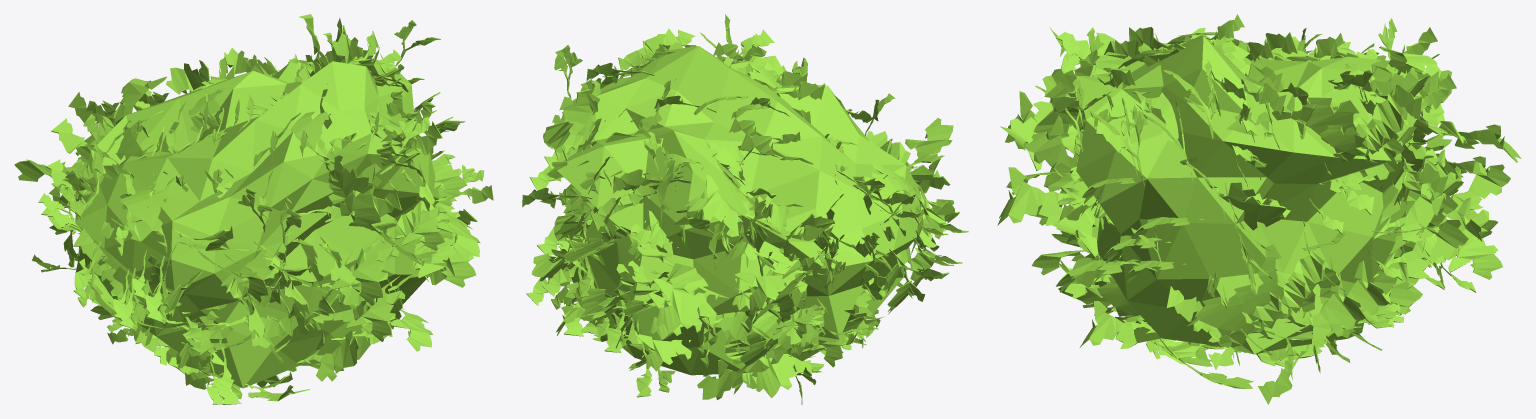
The model's file is krzak2.fbx.
3 renders of one model, left to right at view 1: azimuth 30°, elevation 25°; view 2: azimuth 150°, elevation 25°; view 3: azimuth 270°, elevation 25°, orthographic. The views are drawn at different scales.
Visible parts, largest first — view 1: krzak2_LOD0; view 2: krzak2_LOD0; view 3: krzak2_LOD0.
Part boxes in pixels (x1,y1,x2,y2): krzak2_LOD0: [14, 14, 493, 404]; krzak2_LOD0: [522, 14, 968, 404]; krzak2_LOD0: [997, 14, 1521, 404].
Size of what is drawn, in the model's own units: 150 by 108 by 151.
